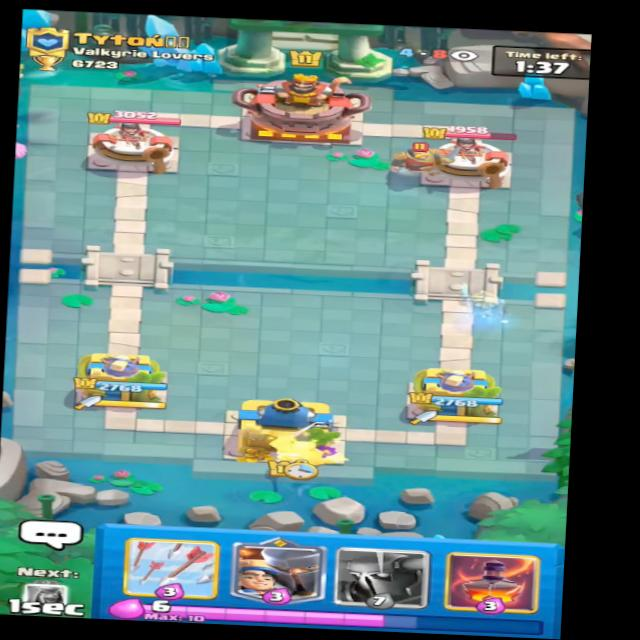knight: (382, 139, 459, 177)
